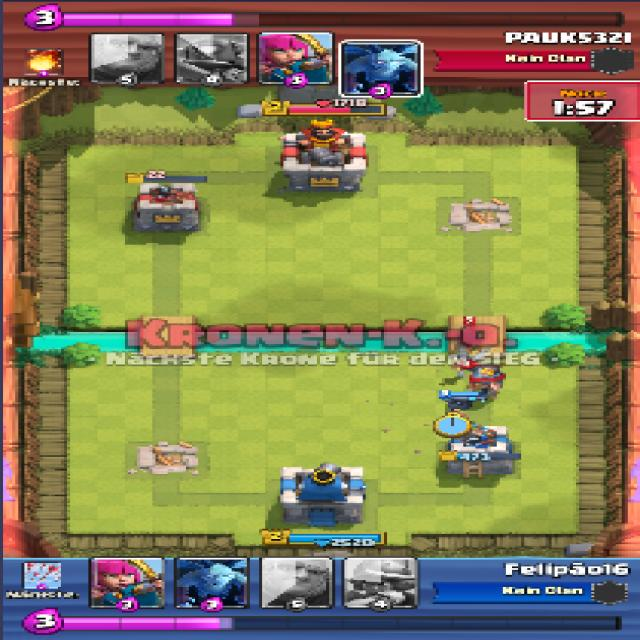Enemy-Knight: (465, 361, 504, 388)
Enemy-Musketeer: (454, 327, 489, 358)
Player-MiniPEKKA: (433, 390, 484, 415)
